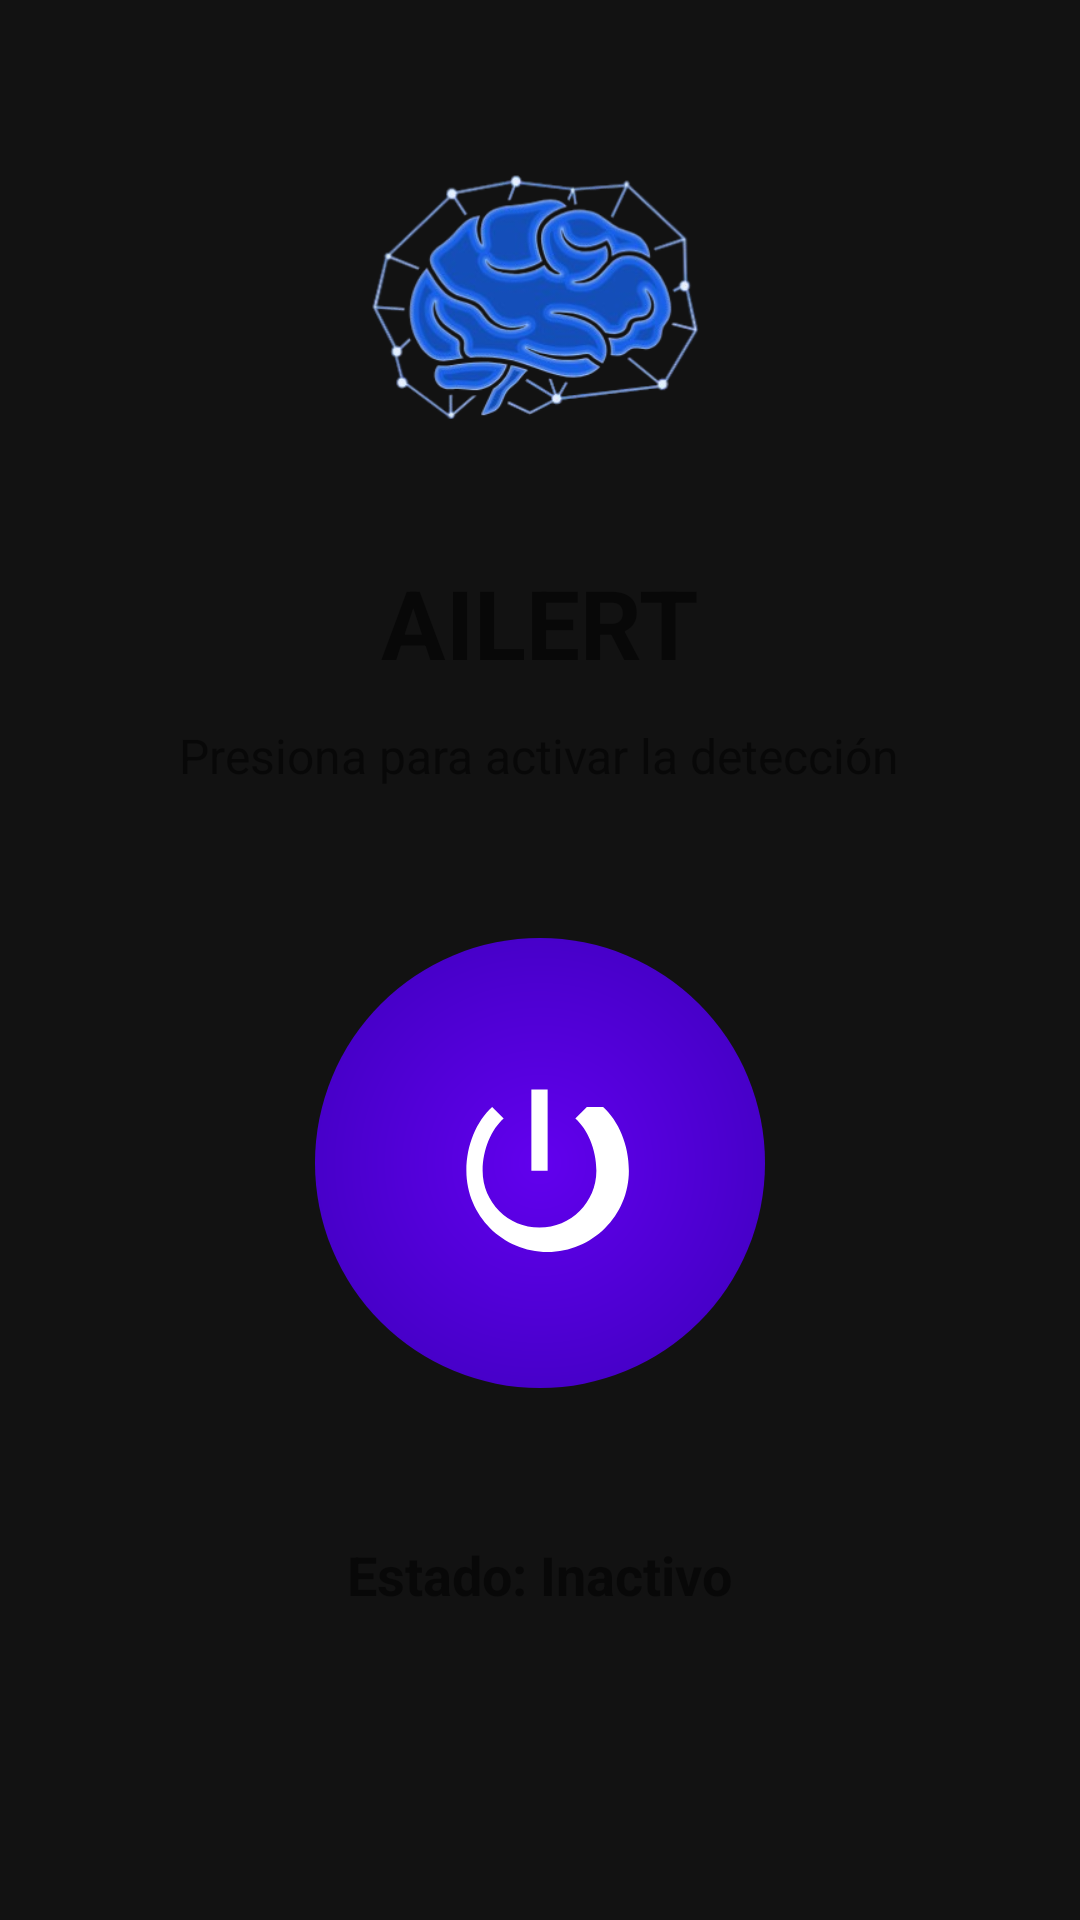

Icon click points for this 1080w x 1920h phone screenshot, format [x,y]:
Power Icon: [547,1170]
